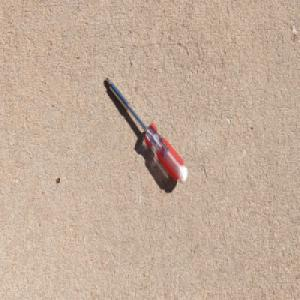Screwdriver: (105, 75, 189, 185)
